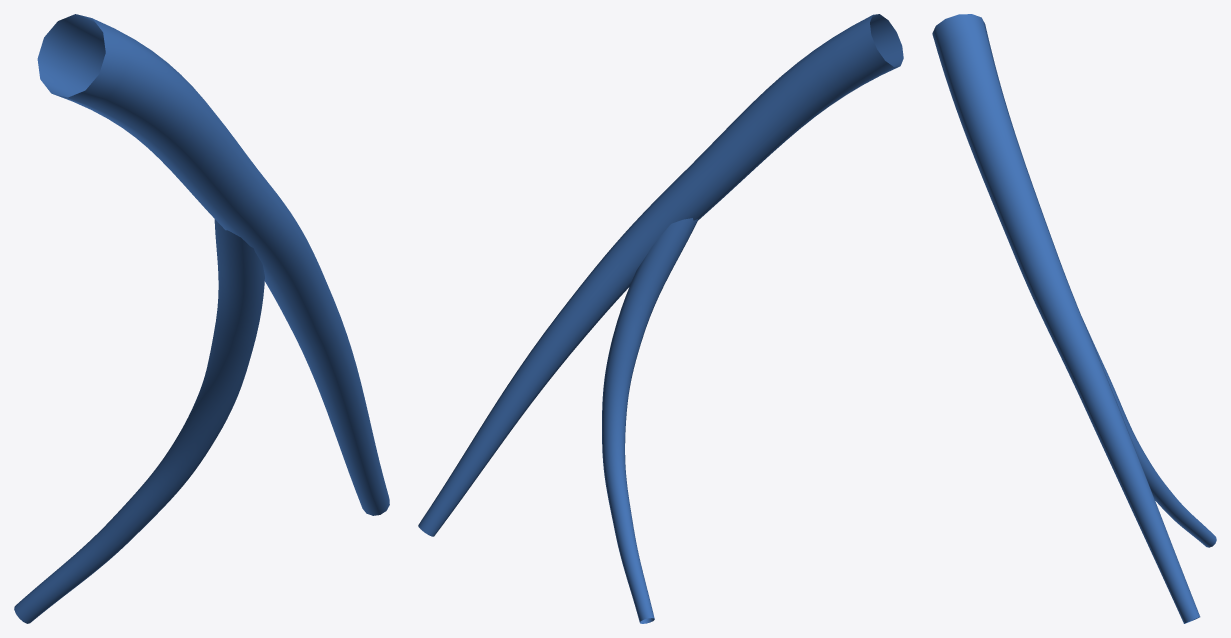
3 views of the same model, side by side, from view 1: azimuth 30°, elevation 25°; view 2: azimuth 150°, elevation 25°; view 3: azimuth 270°, elevation 25° (orthographic). The views are drawn at different scales.
Parts seen in each view (by area): view 1: 左肺上舌静脉; view 2: 左肺上舌静脉; view 3: 左肺上舌静脉.
Part boxes in pixels (left/top/right/bottom): 左肺上舌静脉: left=14, top=14, right=389, bottom=623; 左肺上舌静脉: left=418, top=14, right=903, bottom=623; 左肺上舌静脉: left=932, top=14, right=1216, bottom=623.
Size of the model in its own units: 0.0618 by 0.0885 by 0.0465.
